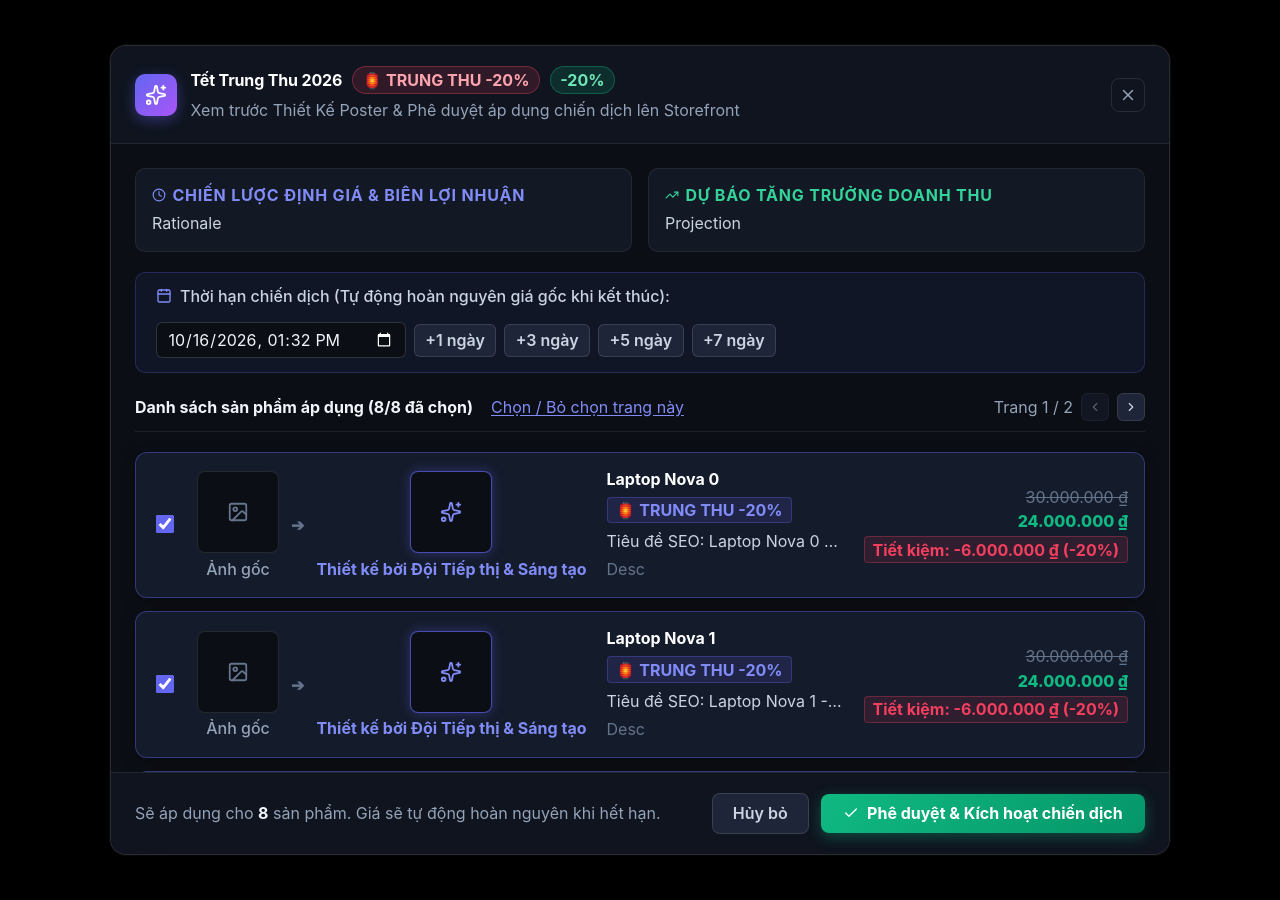
Test: CampaignProposalModal › renders paginated items and preserves selection across pages
The width and height of the screenshot is (1280, 900).
Expected: the heading "Laptop Nova 0" is shown, [606, 468, 719, 488]
Expected: the text "Trang 1 / 2" is shown, [994, 397, 1073, 417]
// Click next page
Click the button named "Trang sau".
click(1131, 407)  # box [1117, 393, 1145, 421]
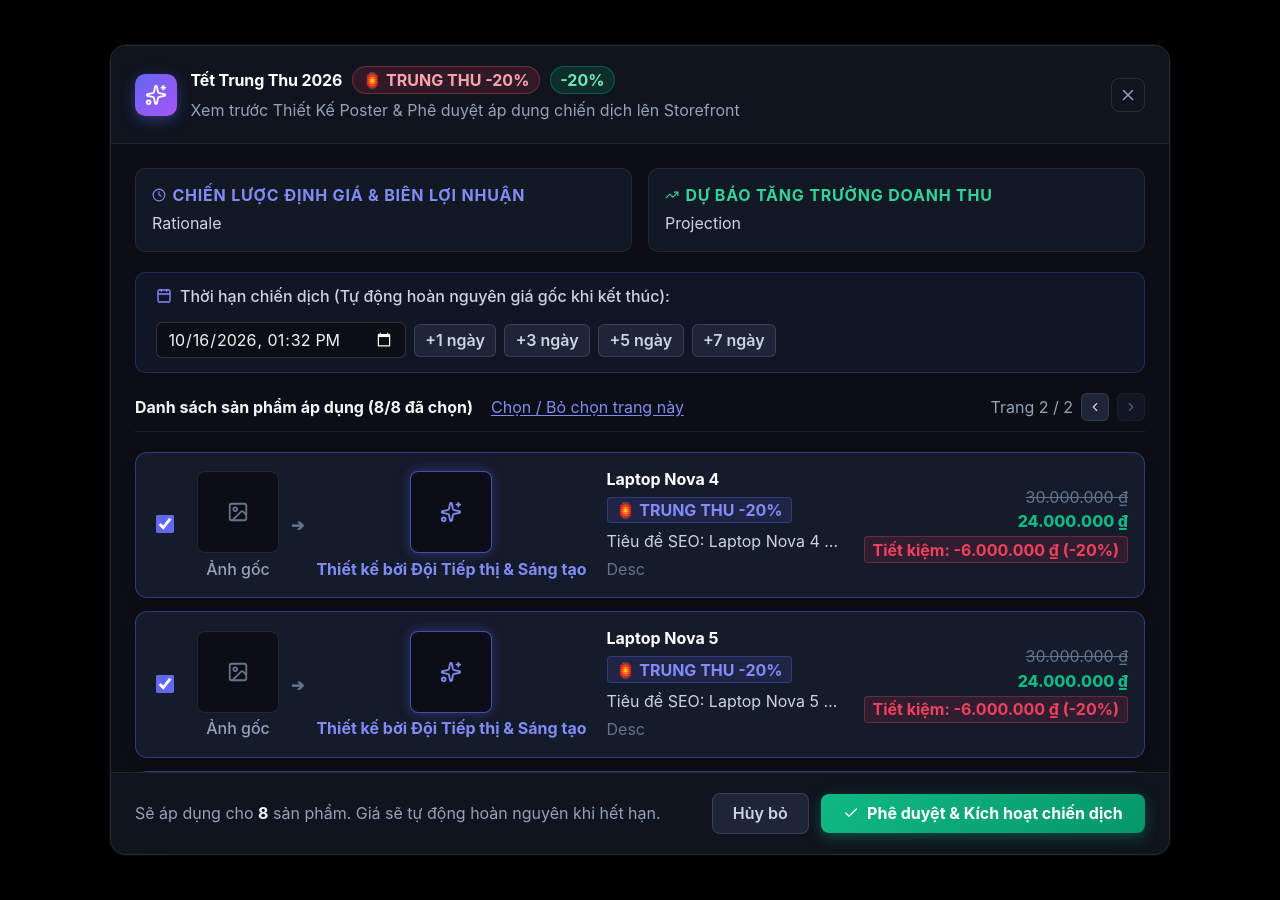
Expected: the heading "Laptop Nova 4" is shown, [606, 468, 719, 488]
